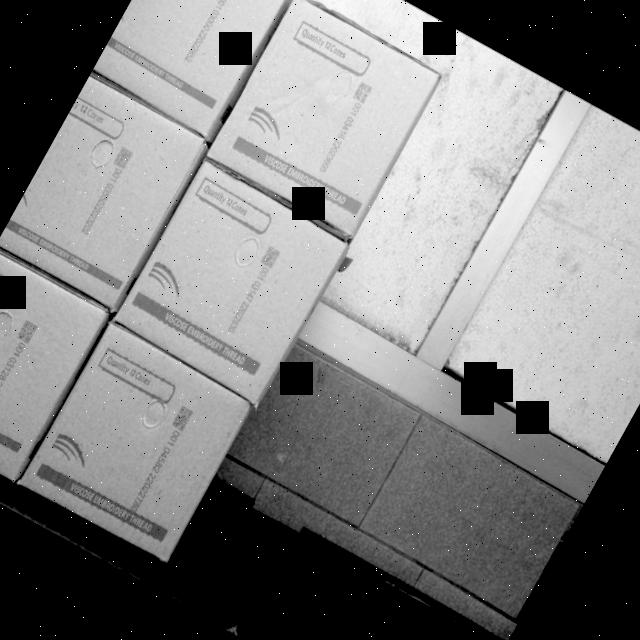box: (113, 161, 350, 403), (208, 0, 443, 235), (23, 324, 255, 562), (0, 75, 205, 304), (93, 0, 306, 136), (0, 246, 111, 483)
